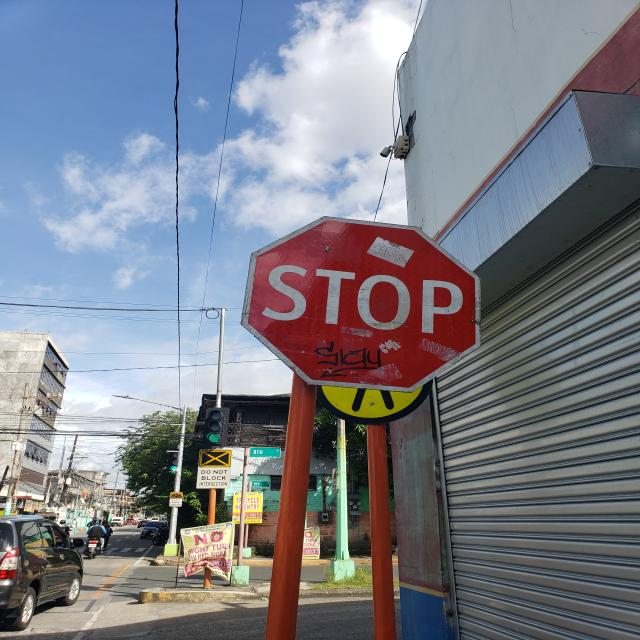stop-sign: (240, 215, 482, 393)
